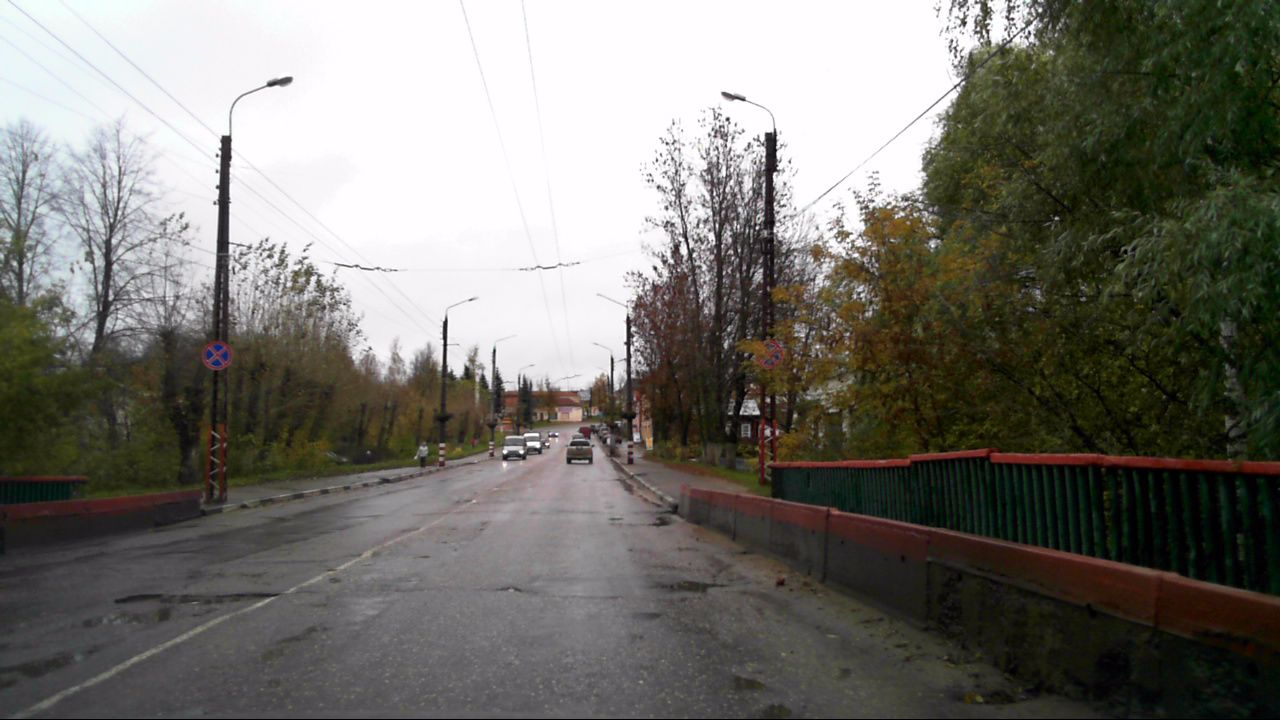No Parking: (201, 340, 233, 369)
